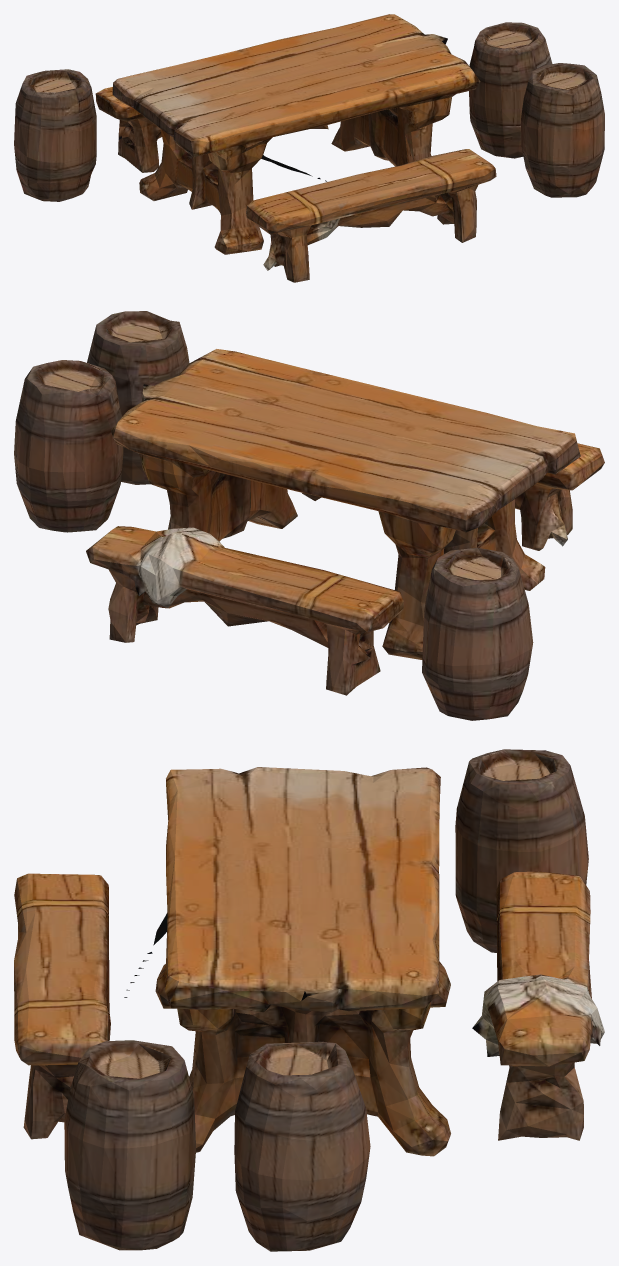
File: tavern_set_barrels_a_lod0.glb
3 views of the same model, one above another, from view 1: azimuth 30°, elevation 25°; view 2: azimuth 150°, elevation 25°; view 3: azimuth 270°, elevation 25° (orthographic). The views are drawn at different scales.
Parts seen in each view (by area): view 1: tavern_set_barrels_a_lod0; view 2: tavern_set_barrels_a_lod0; view 3: tavern_set_barrels_a_lod0.
Boxes of the visible parts, x1=… form: tavern_set_barrels_a_lod0: x1=14, y1=14, x2=604, y2=282; tavern_set_barrels_a_lod0: x1=14, y1=311, x2=604, y2=720; tavern_set_barrels_a_lod0: x1=14, y1=749, x2=604, y2=1251.
Size of the model in its own units: 3.53 by 0.9102 by 2.49.
Materials: 1 (1 with a texture image).
